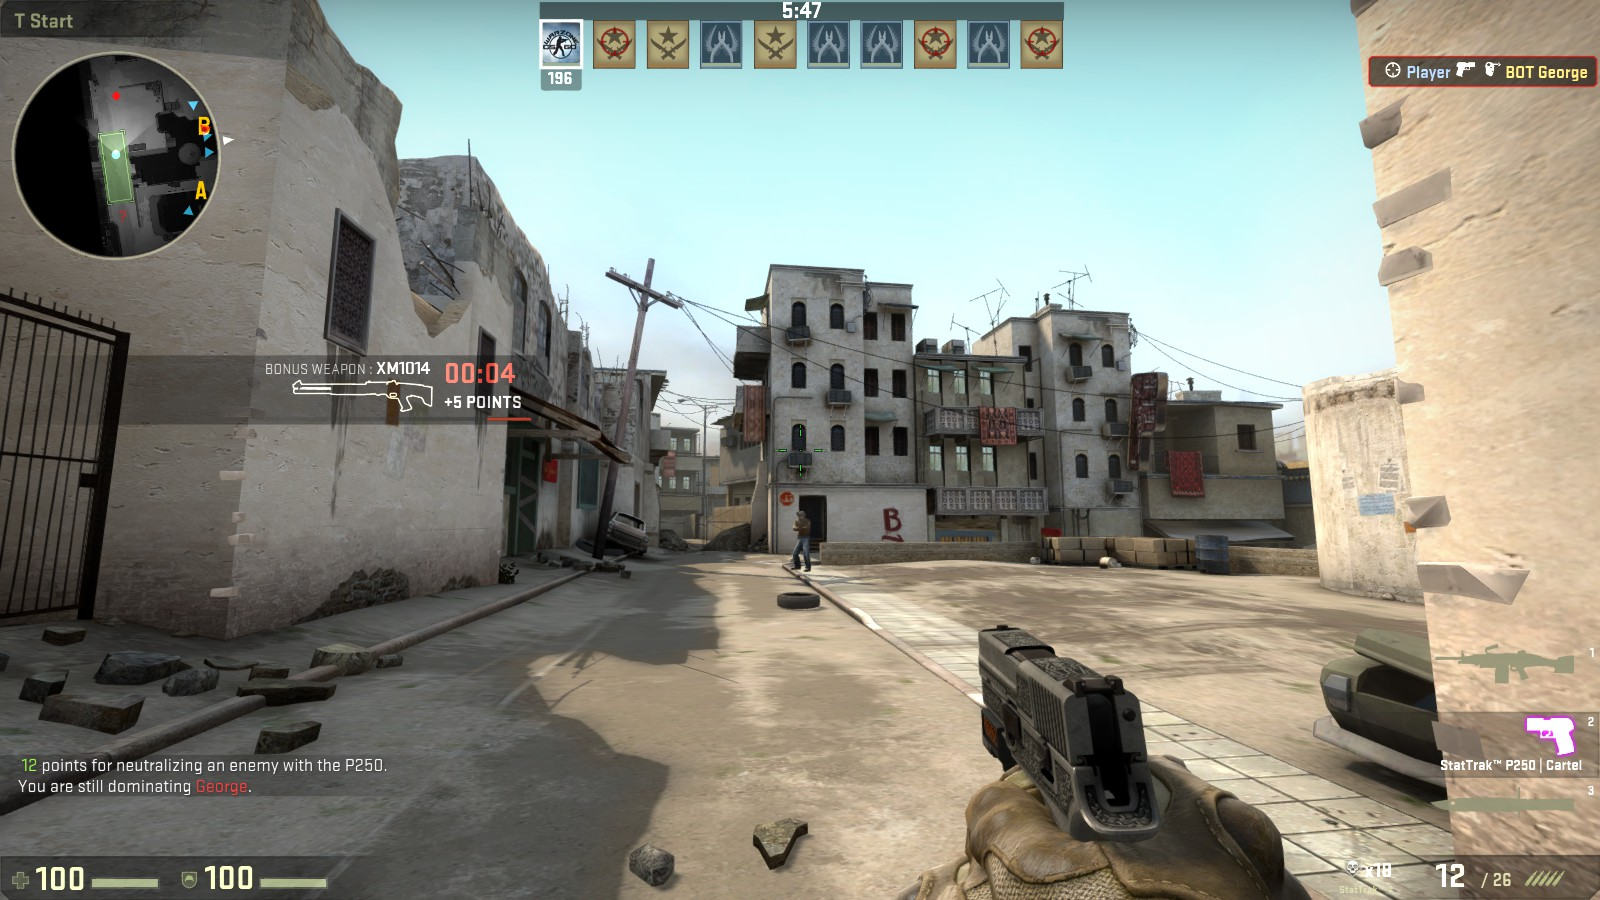t: (793, 510, 811, 571)
th: (797, 510, 807, 520)
